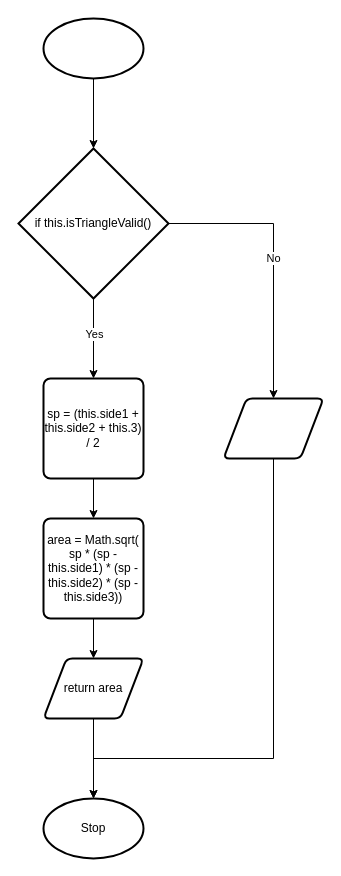
Some shapes in this 341 by 876 pixel diagram are drawn without their labels. The box of each missing label's shape, as (x1, y1, x2, y2) in pixels:
return -1: (222, 397, 324, 459)
Start: (42, 17, 144, 79)
